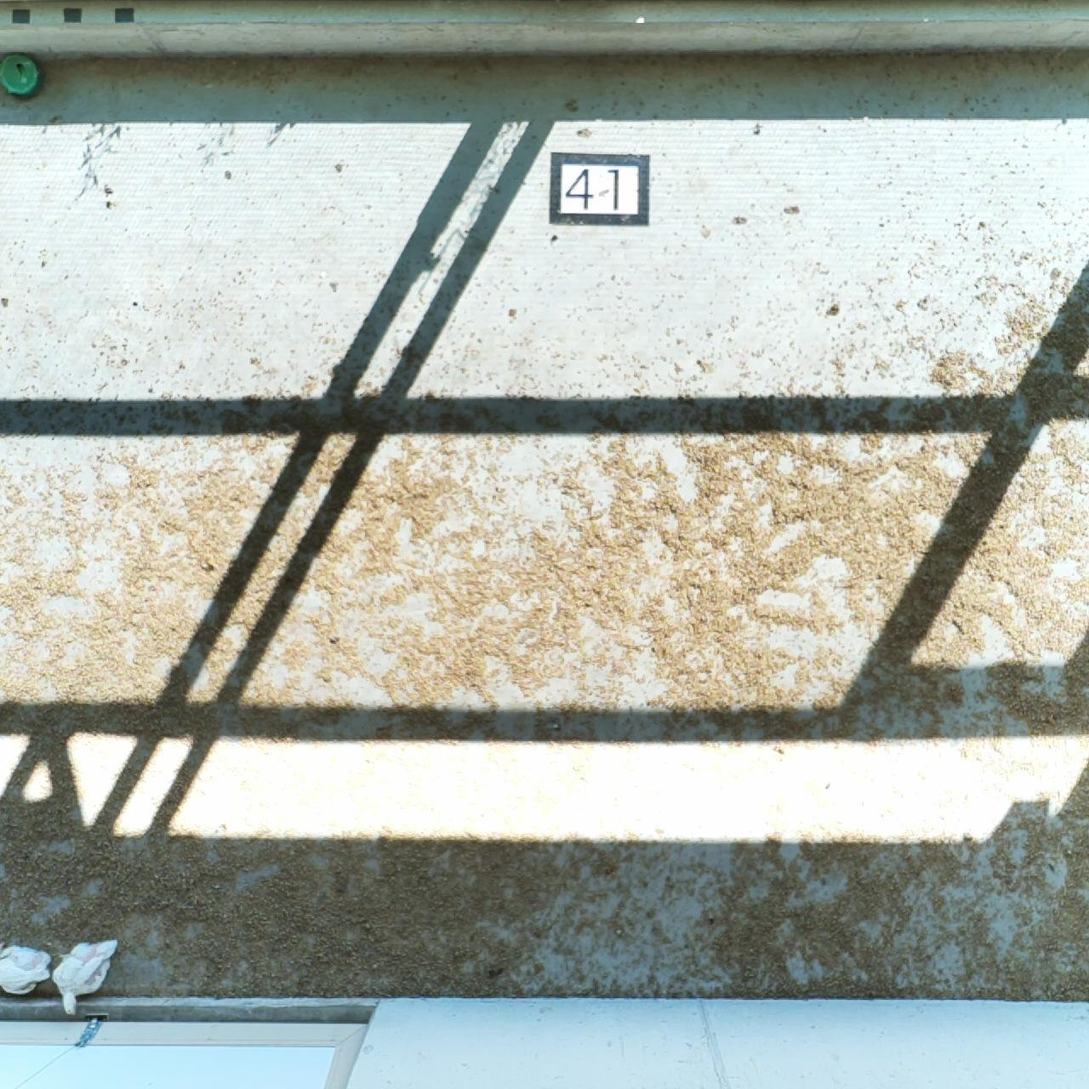chicken: (54, 942, 116, 1016), (1, 944, 51, 994)
